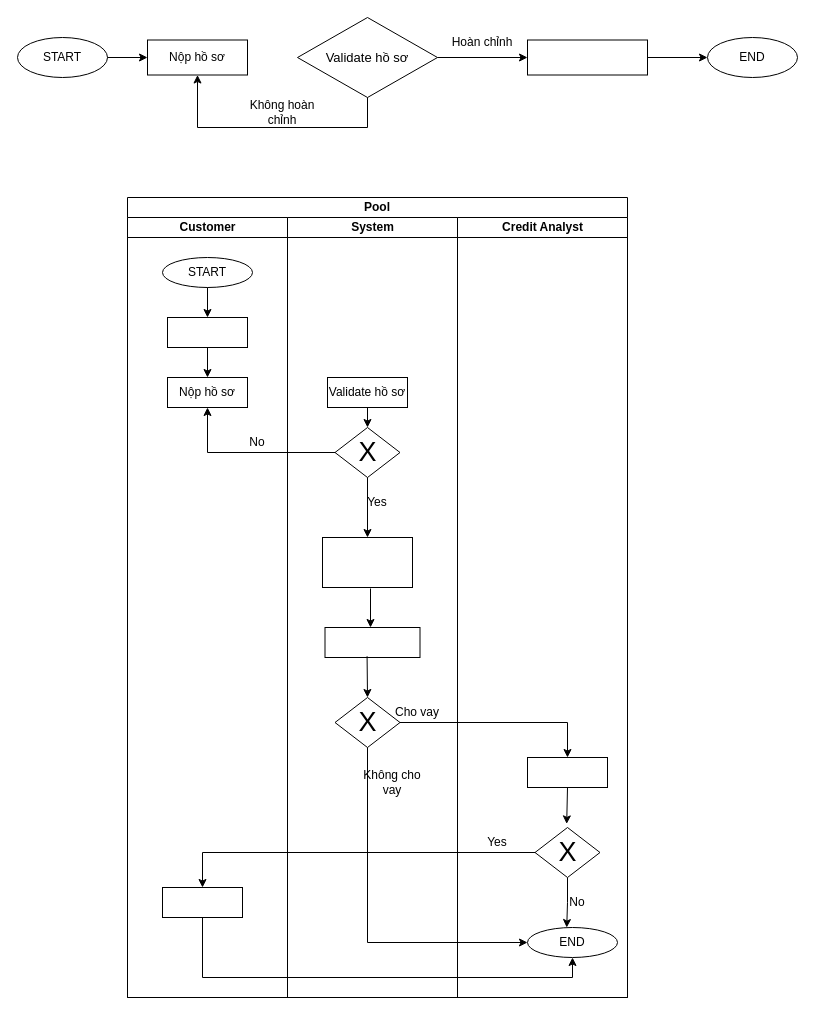
The diagram is 815 pixels wide and 1015 high, and some of its shapes have lost their labels. The shapes that lost their labels are listed below. From the top down, each one's centre as x and y in pixels, then its label:
At (587,57): "Scoring&Quyết định".
At (207,332): "Vào App/Web".
At (367,562): "Gọi CIC API, scoring engine".
At (372,642): "Quyết định kết quả".
At (567,772): "Review".
At (202,902): "Ký hợp đồng điện tử".
